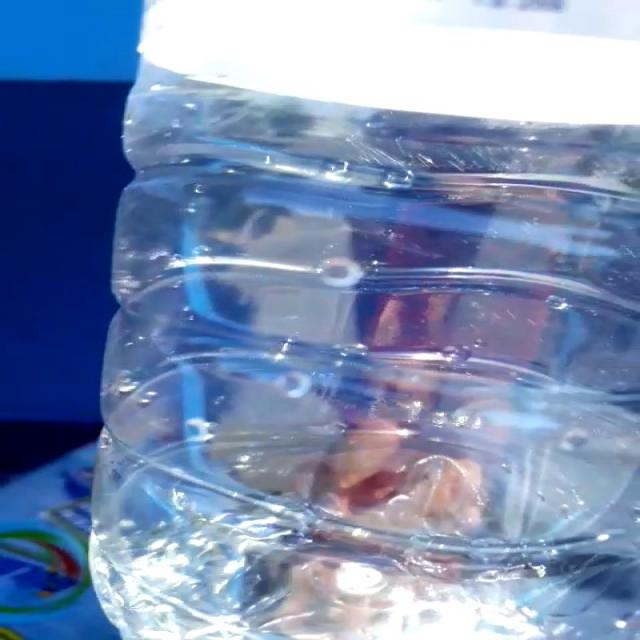plastic: (91, 63, 639, 640)
